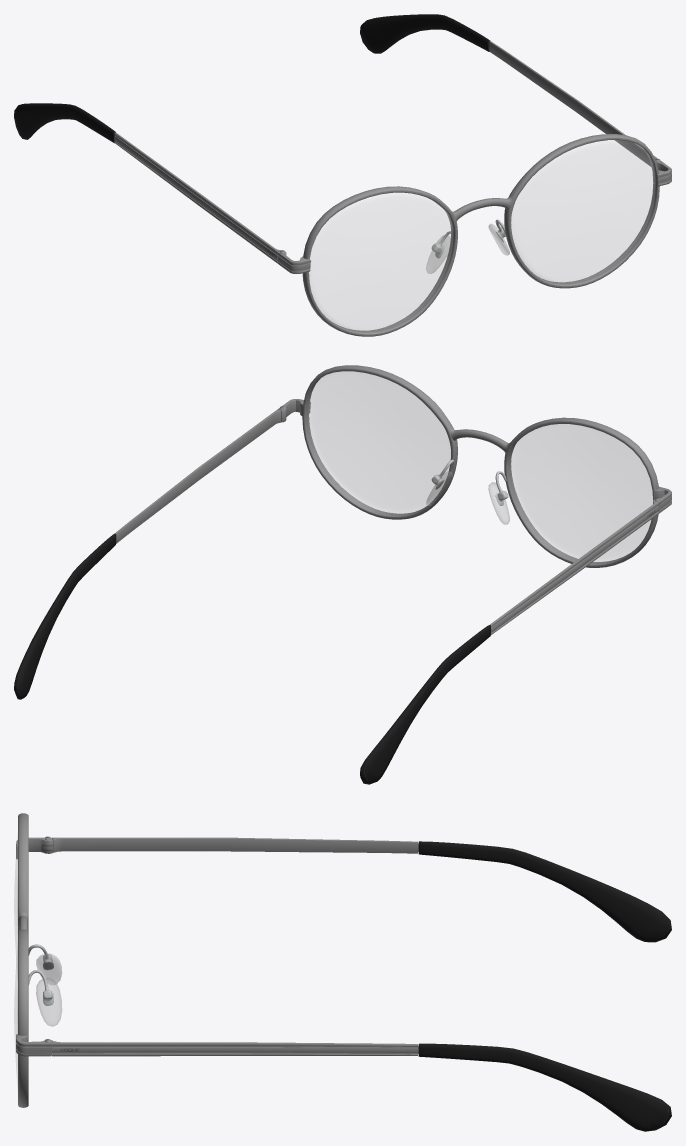
Rendered from glasses6.glb.
The picture shows the model from 3 angles, top to bottom: view 1: azimuth 30°, elevation 25°; view 2: azimuth 150°, elevation 25°; view 3: azimuth 270°, elevation 25°; orthographic projection. The views are drawn at different scales.
Visible parts, largest first — view 1: Cube_Vogue_01_0; view 2: Cube_Vogue_01_0; view 3: Cube_Vogue_01_0.
Boxes of the visible parts, <box> form: Cube_Vogue_01_0: <box>14,14,671,336</box>; Cube_Vogue_01_0: <box>14,365,671,784</box>; Cube_Vogue_01_0: <box>14,813,671,1131</box>.
Bounding box in the file's own units: 2.92 × 1.06 × 3.93.
1 material, 1 textured.
